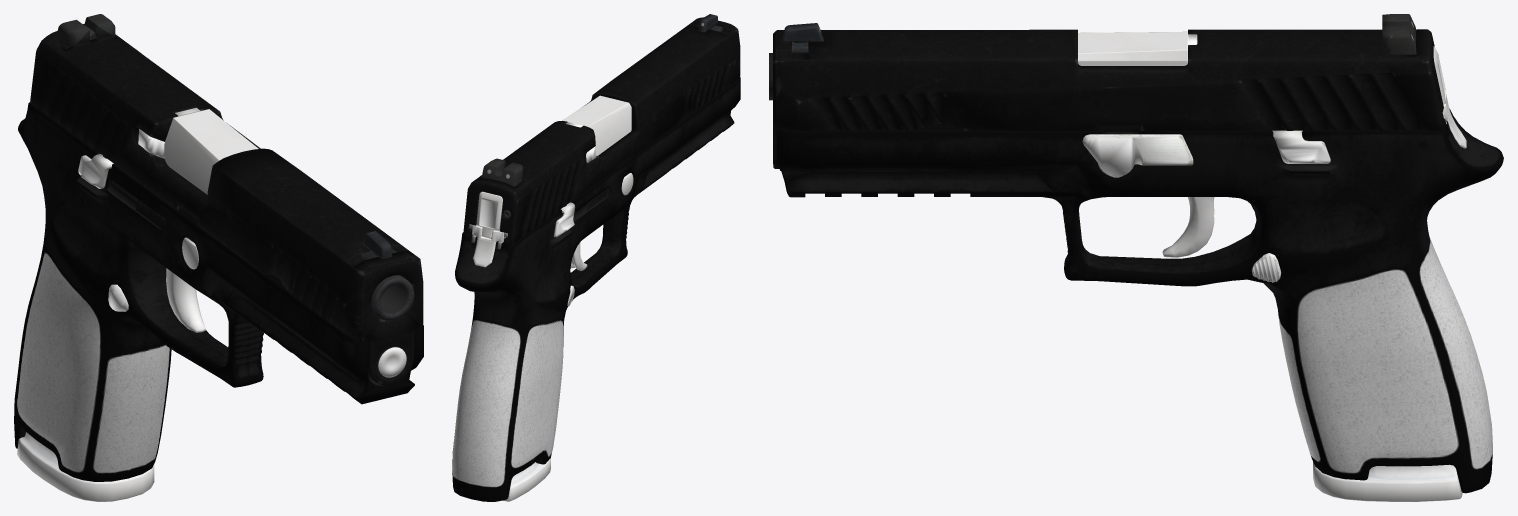
The model's file is Weapons_M17_LOD0.glb.
3 renders of one model, left to right at view 1: azimuth 30°, elevation 25°; view 2: azimuth 150°, elevation 25°; view 3: azimuth 270°, elevation 25°, orthographic. The views are drawn at different scales.
Visible parts, largest first — view 1: Hoodie; view 2: Hoodie; view 3: Hoodie.
Boxes of the visible parts, x1=… form: Hoodie: x1=14, y1=14, x2=423, y2=501; Hoodie: x1=452, y1=14, x2=740, y2=501; Hoodie: x1=769, y1=14, x2=1503, y2=501.
Size of the model in its own units: 0.0331 by 0.1478 by 0.2155.
1 material, 1 textured.
